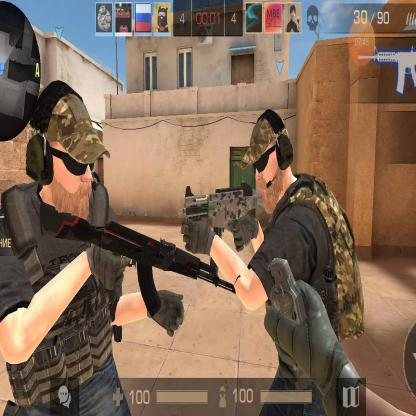rifle: (39, 200, 240, 325), (178, 186, 269, 248)
